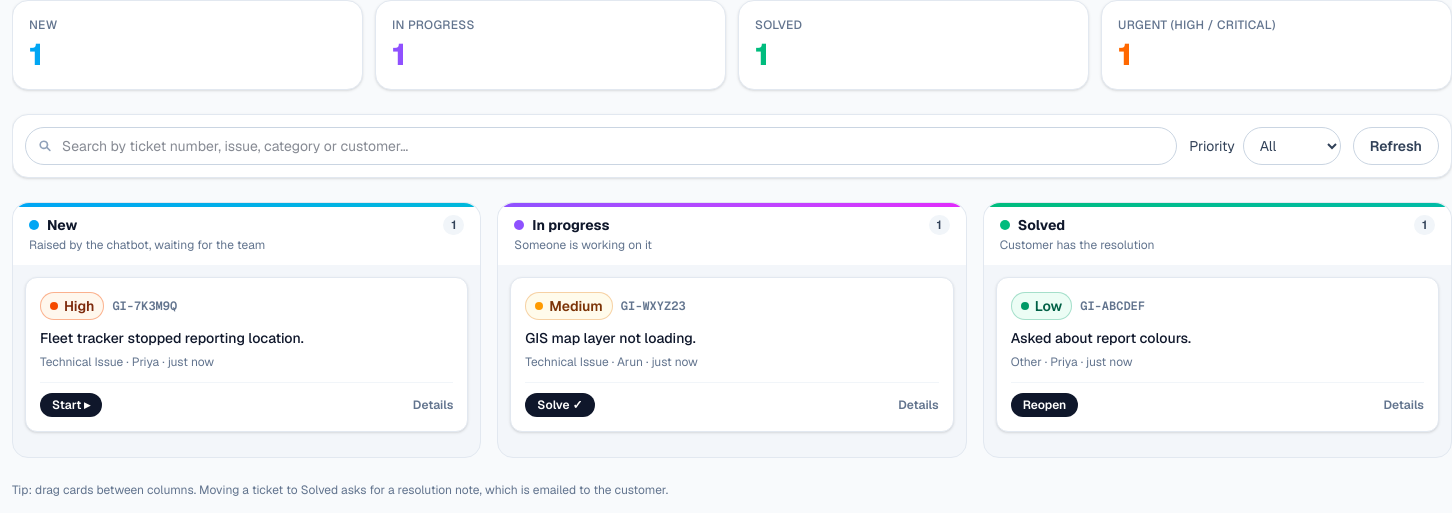
Scenario: TicketsBoard › filters by search text and priority
Check: the text "Fleet tracker stopped reporting location." is shown, box [40,329,304,347]
Step 1. Type "gis" into the search field → (601, 146), box [25,127,1177,165]
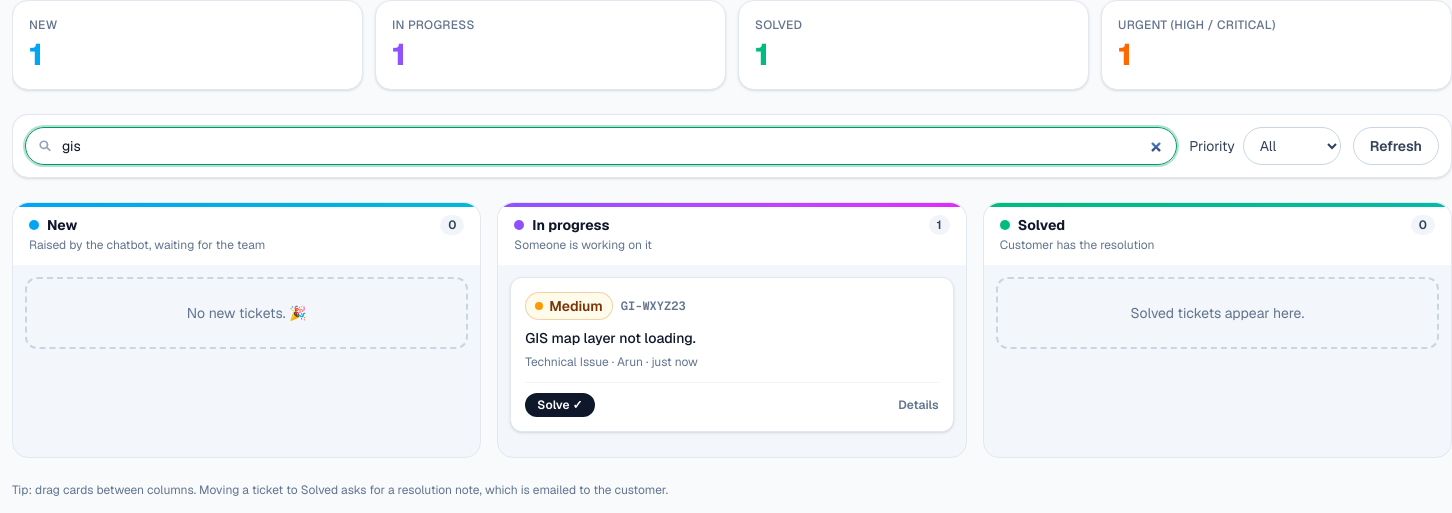
Check: the text "GIS map layer not loading." is shown, box [525,329,696,347]
Check: the button "Fleet tracker stopped reporting location." is gone
Step 2. Clear the search field → (601, 146), box [25,127,1177,165]
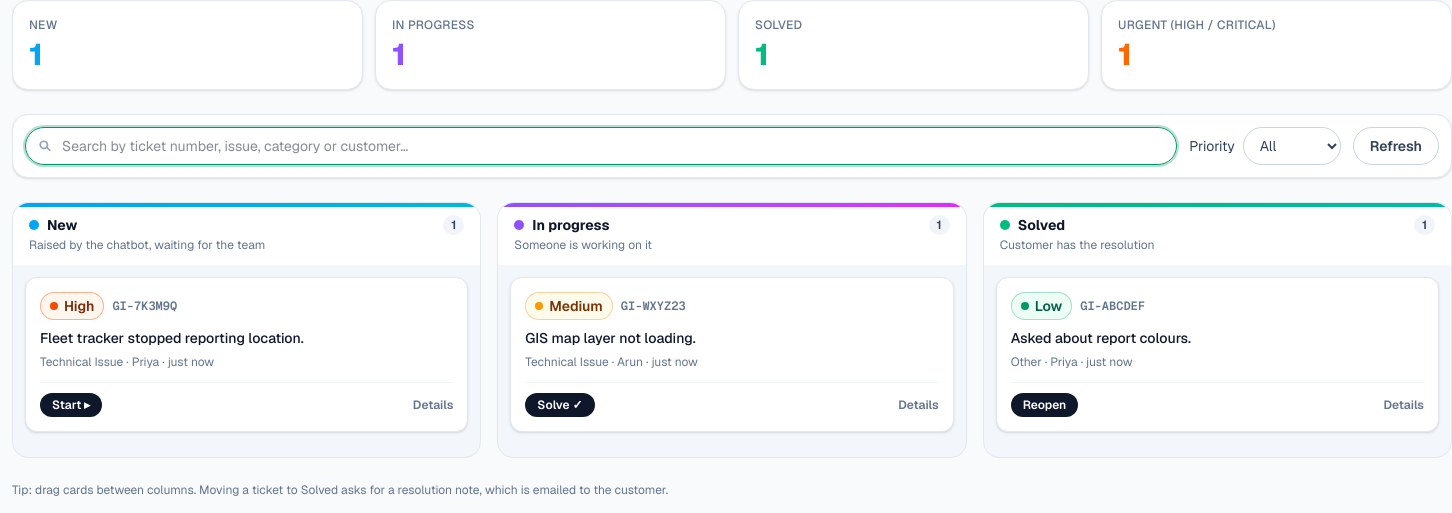
Step 3. Select "Low" in the dropdown labelled "Priority" → (1292, 146), box [1243,127,1341,165]
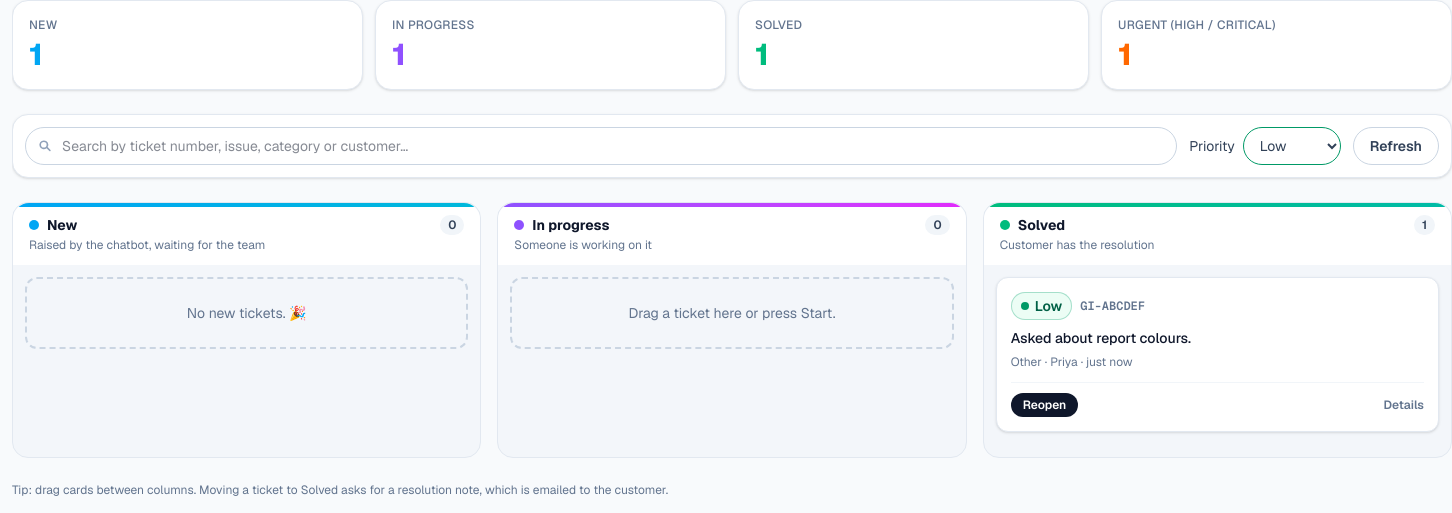
Check: the text "Asked about report colours." is shown, box [1011,329,1191,347]
Check: the button "GIS map layer not loading." is gone
